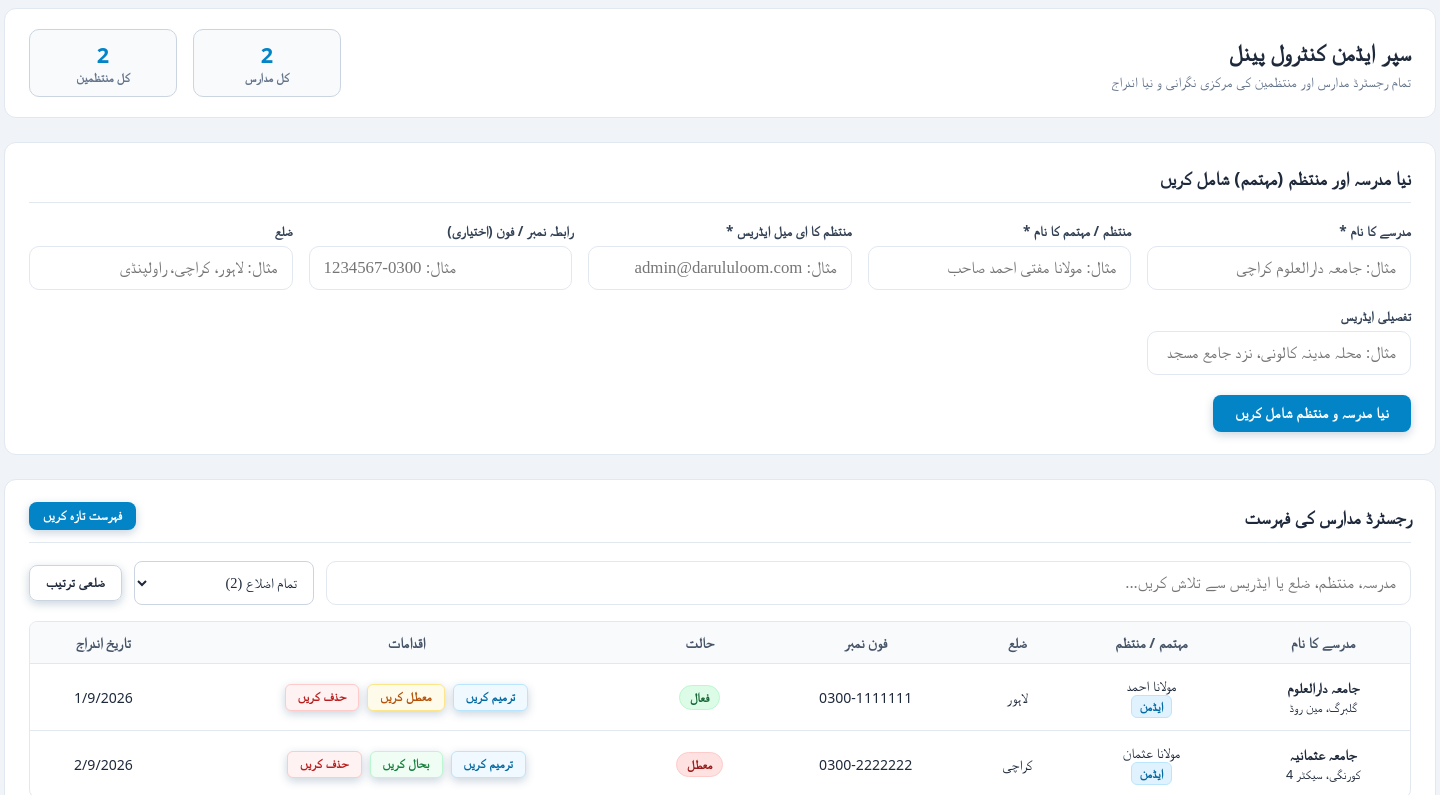
Scenario: SuperAdmin Component › prevents adding mohtamim with super admin own email address
Expected: the text "جامعہ دارالعلوم" is shown, [1287,678,1359,697]
Step 1. Type "نیا مدرسہ" into the field labelled "مدرسے کا نام *" → point(1279, 268), box [1147,246,1411,290]
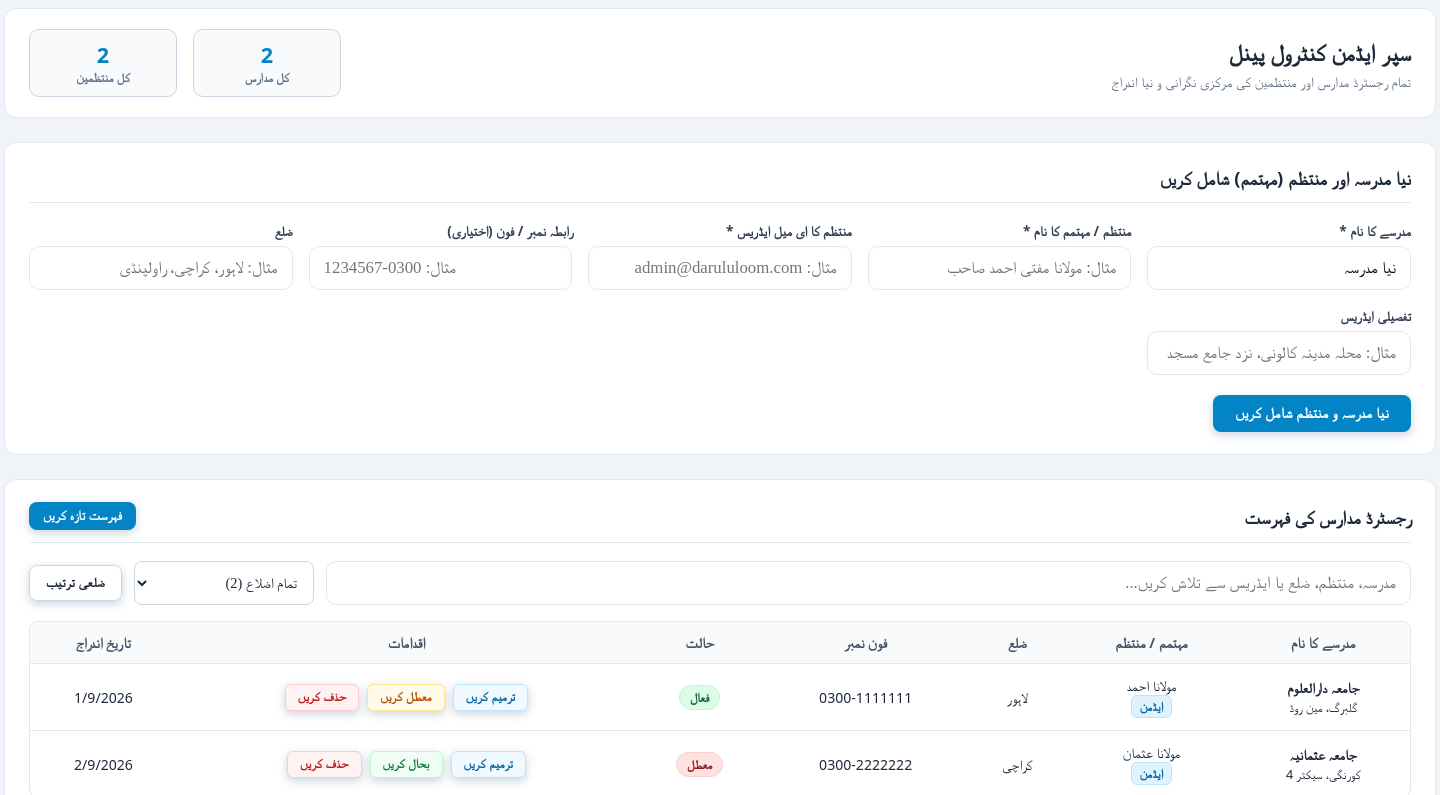
Step 2. Type "مہتمم صاحب" into the field labelled "منتظم / مہتمم کا نام *" → point(1000, 268), box [868,246,1131,290]
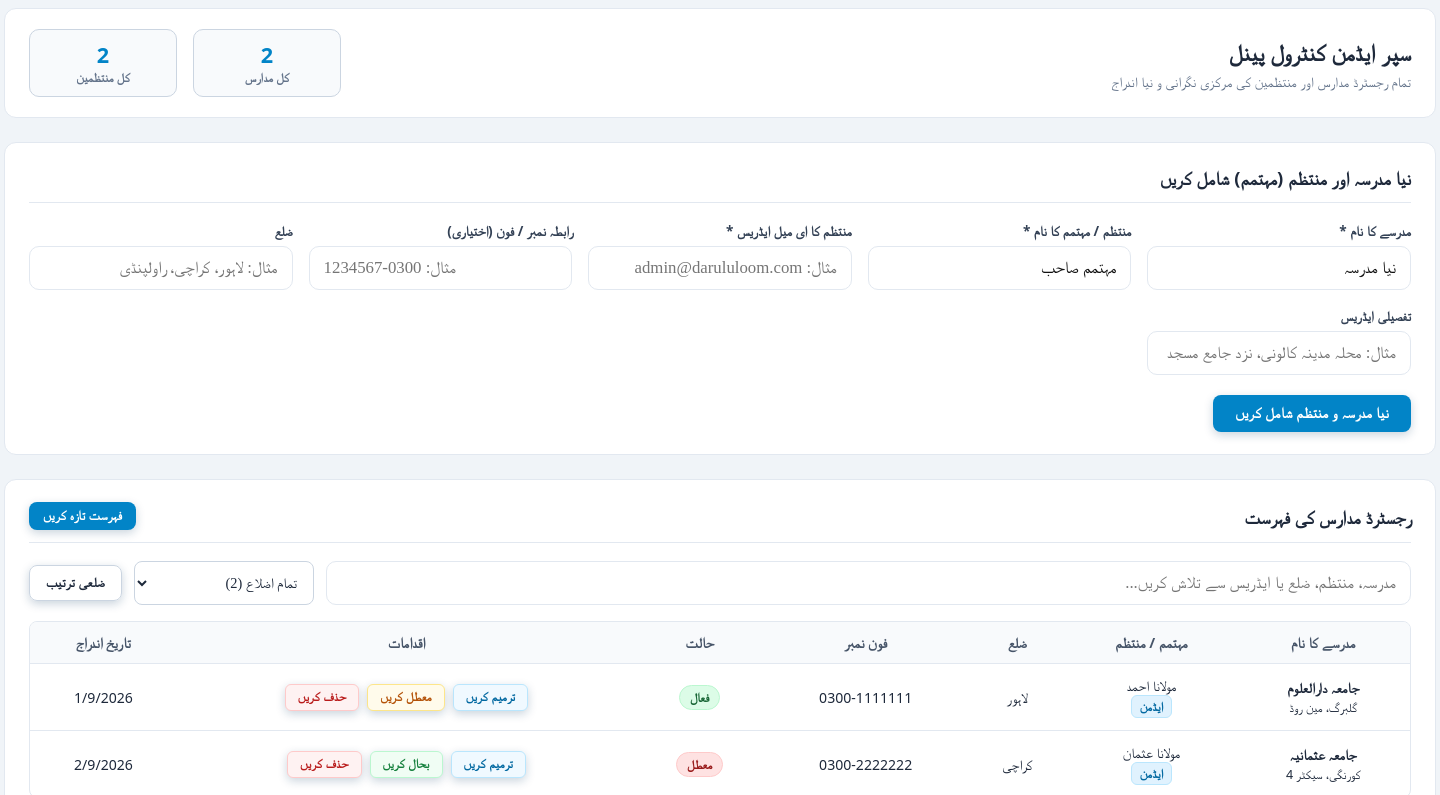
Step 3. Type "superadmin@jamia.com" into the field labelled "منتظم کا ای میل ایڈریس *" → point(720, 268), box [588,246,852,290]
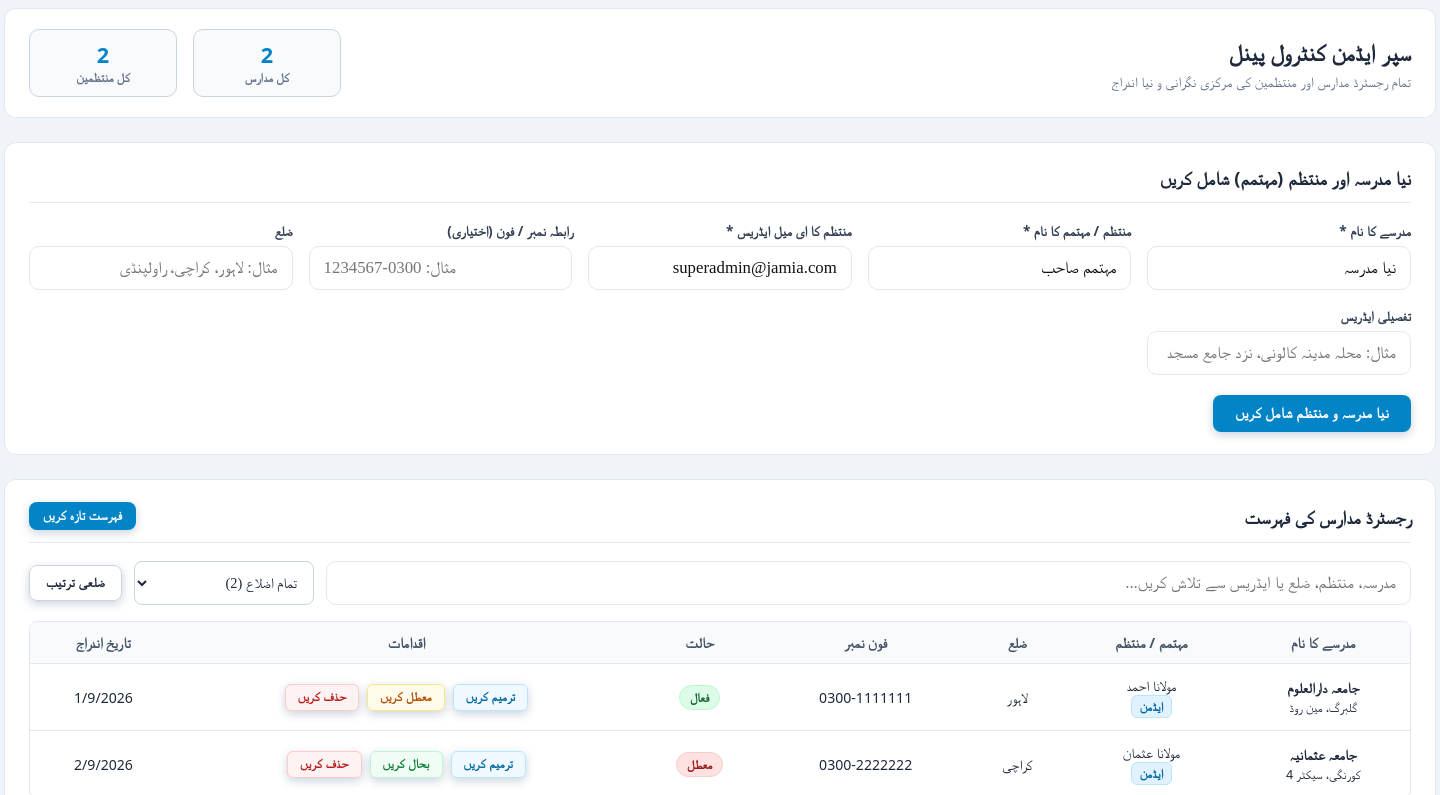
Step 4. Click the button "نیا مدرسہ و منتظم شامل کریں" → point(1312, 414), box [1213,395,1411,432]
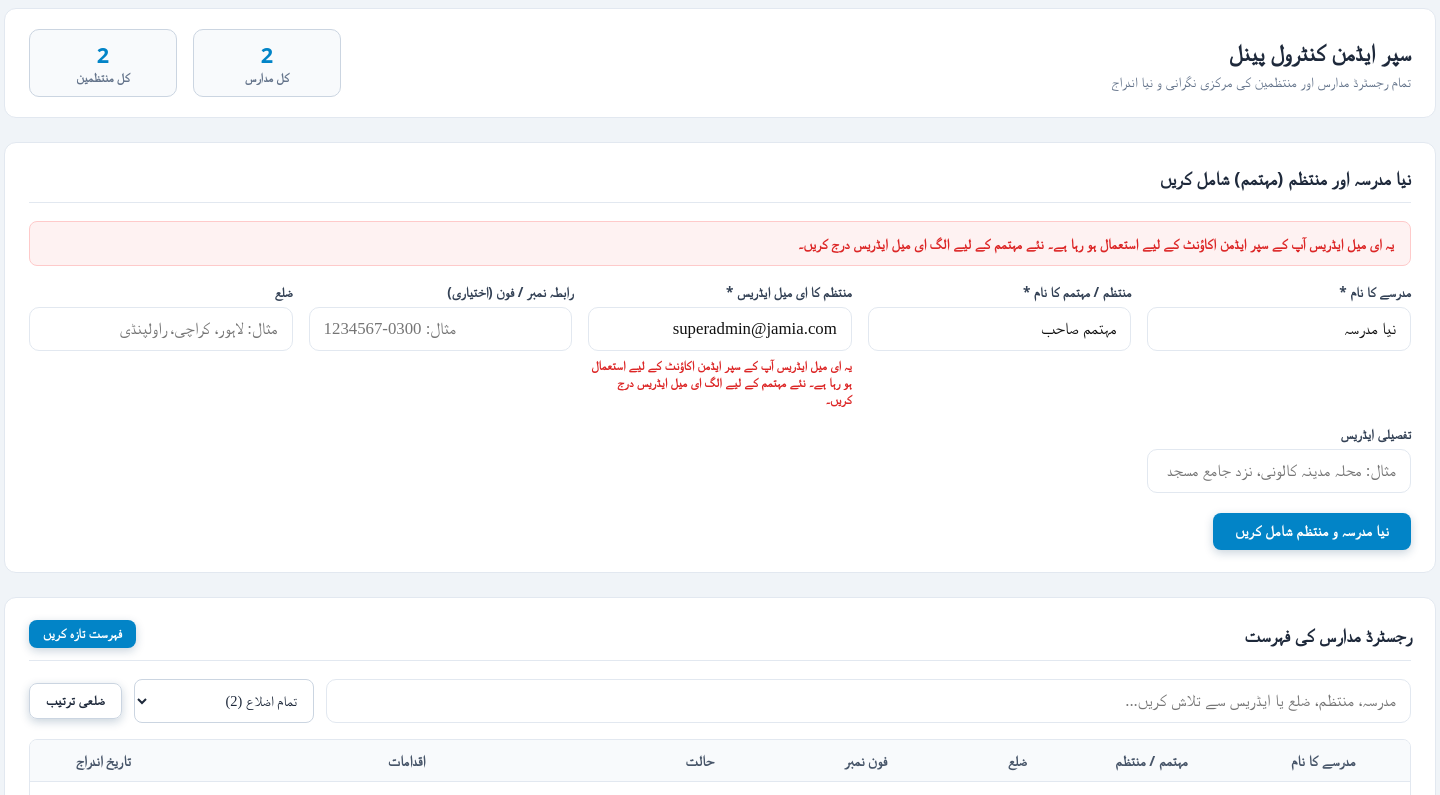
Now the text "یہ ای میل ایڈریس آپ کے سپر ایڈمن اکاؤنٹ کے لیے استعمال ہو رہا ہے۔ نئے مہتمم کے لیے الگ ای میل ایڈریس درج کریں۔" is shown, box [798,234,1394,253]
